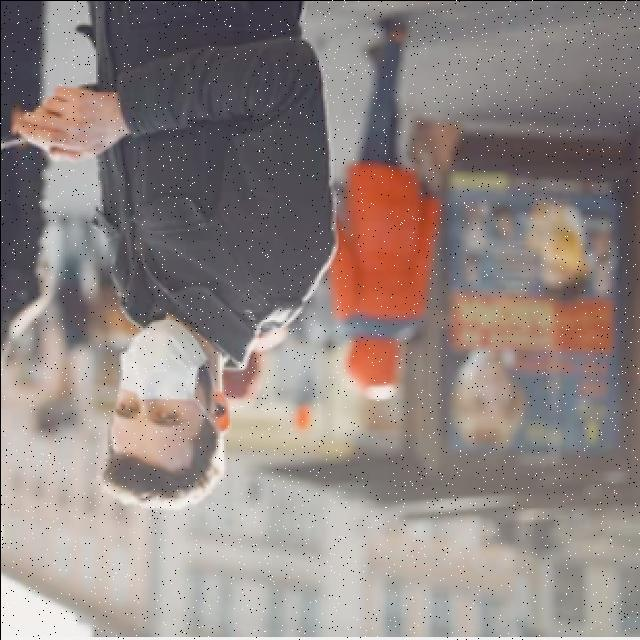face_mask: (105, 321, 227, 478)
